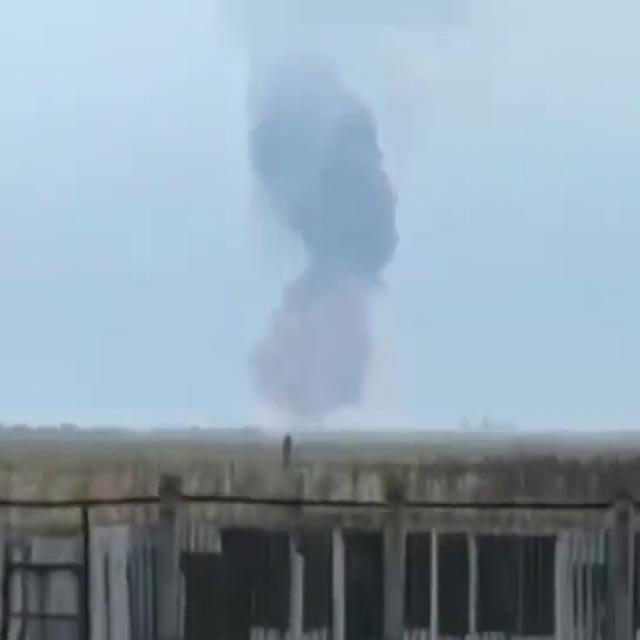Smoke: (245, 48, 400, 430)
